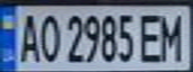2: (60, 10, 84, 64)
5: (115, 10, 139, 63)
8: (100, 11, 121, 63)
9: (81, 10, 103, 63)
A: (12, 9, 42, 64)
E: (136, 11, 166, 64)
M: (157, 10, 187, 63)
O: (36, 10, 60, 63)
